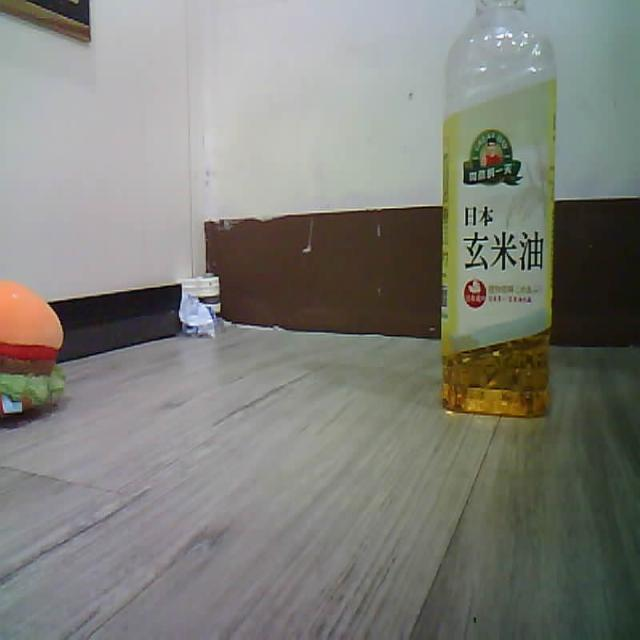bottle: (442, 0, 555, 416)
